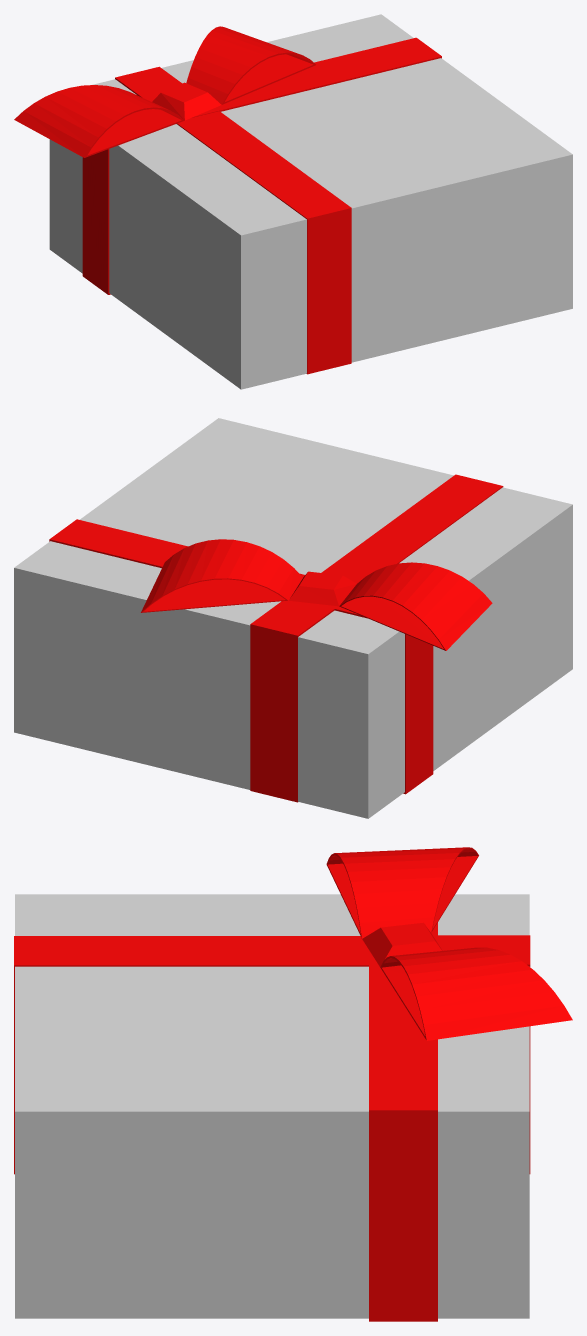
File: Prop_Christmas_Present_White_01.FBX
3 renders of one model, top to bottom at view 1: azimuth 30°, elevation 25°; view 2: azimuth 150°, elevation 25°; view 3: azimuth 270°, elevation 25°, orthographic. The views are drawn at different scales.
Visible parts, largest first — view 1: Prop_Christmas_Present_White_01; view 2: Prop_Christmas_Present_White_01; view 3: Prop_Christmas_Present_White_01.
Part boxes in pixels (bbox=[...]): Prop_Christmas_Present_White_01: bbox=[14, 14, 572, 389]; Prop_Christmas_Present_White_01: bbox=[14, 418, 572, 818]; Prop_Christmas_Present_White_01: bbox=[14, 847, 572, 1321].
Bounding box in the file's own units: 387 × 178 × 360.
